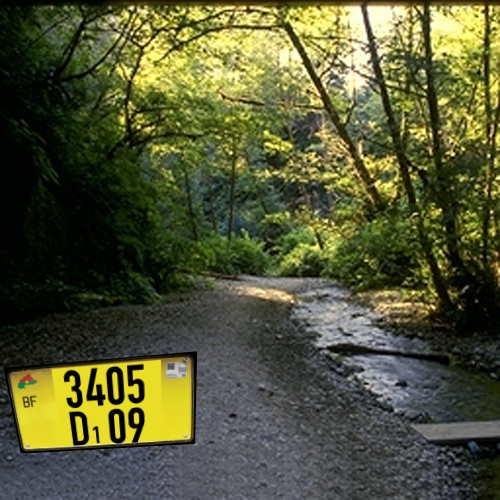plate: (5, 343, 218, 471)
